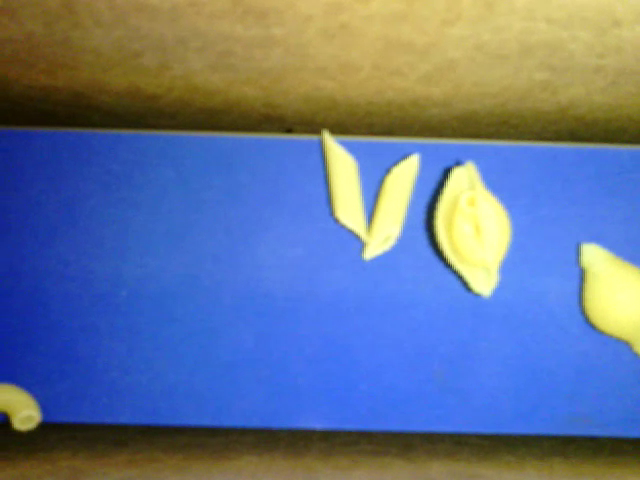elbow: (451, 191, 489, 268), (1, 382, 42, 430)
penne: (362, 152, 420, 261), (321, 128, 368, 243)
shell: (432, 159, 512, 298), (578, 241, 639, 353)
